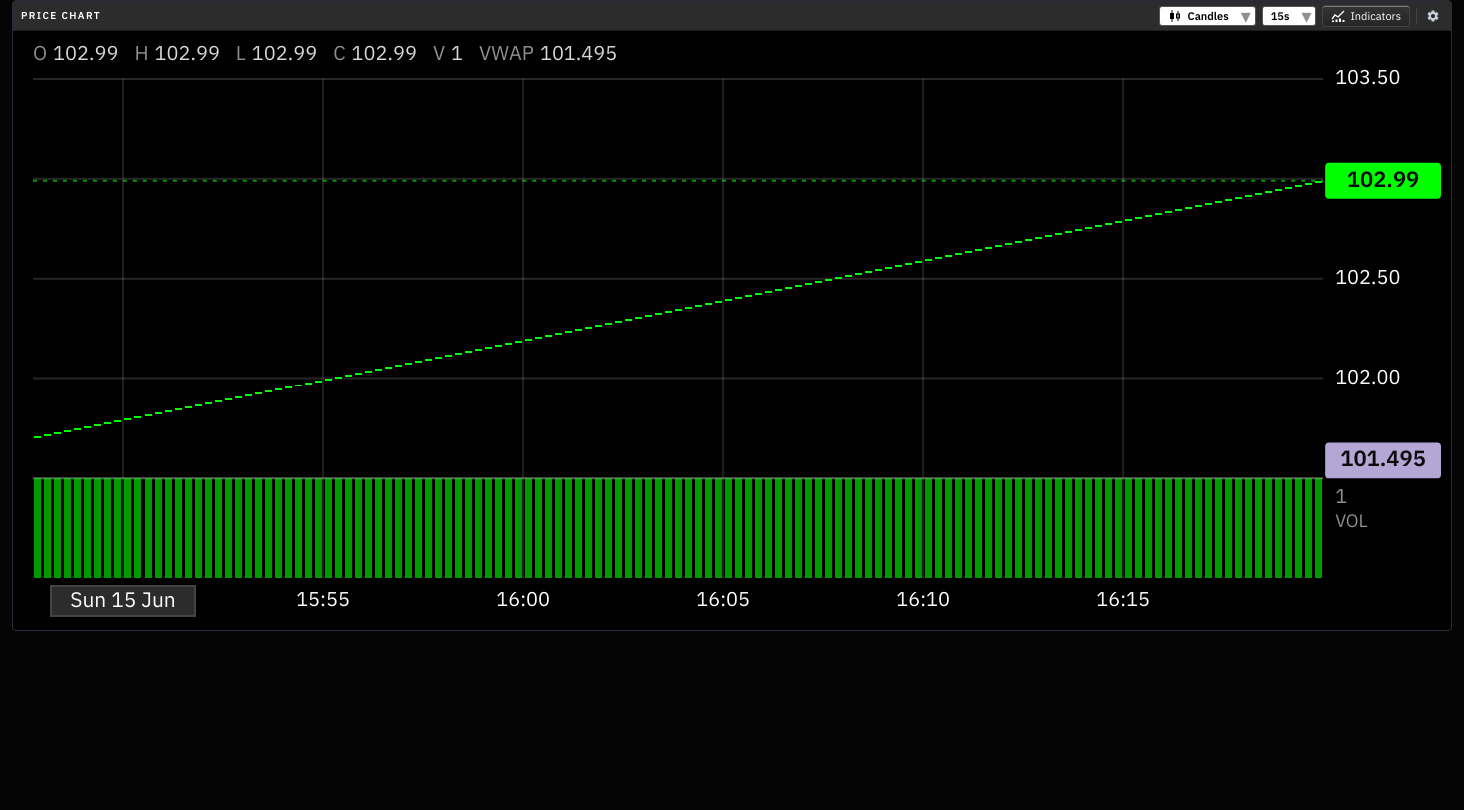
Test case: drag to pan and the Latest button › dragging right moves back in time; Latest appears only when not following
Press the mouse on the picture with test id "price-chart" that starts with "Sun 15 Jun" at [732, 331], box left=13, top=31, right=1451, bottom=630
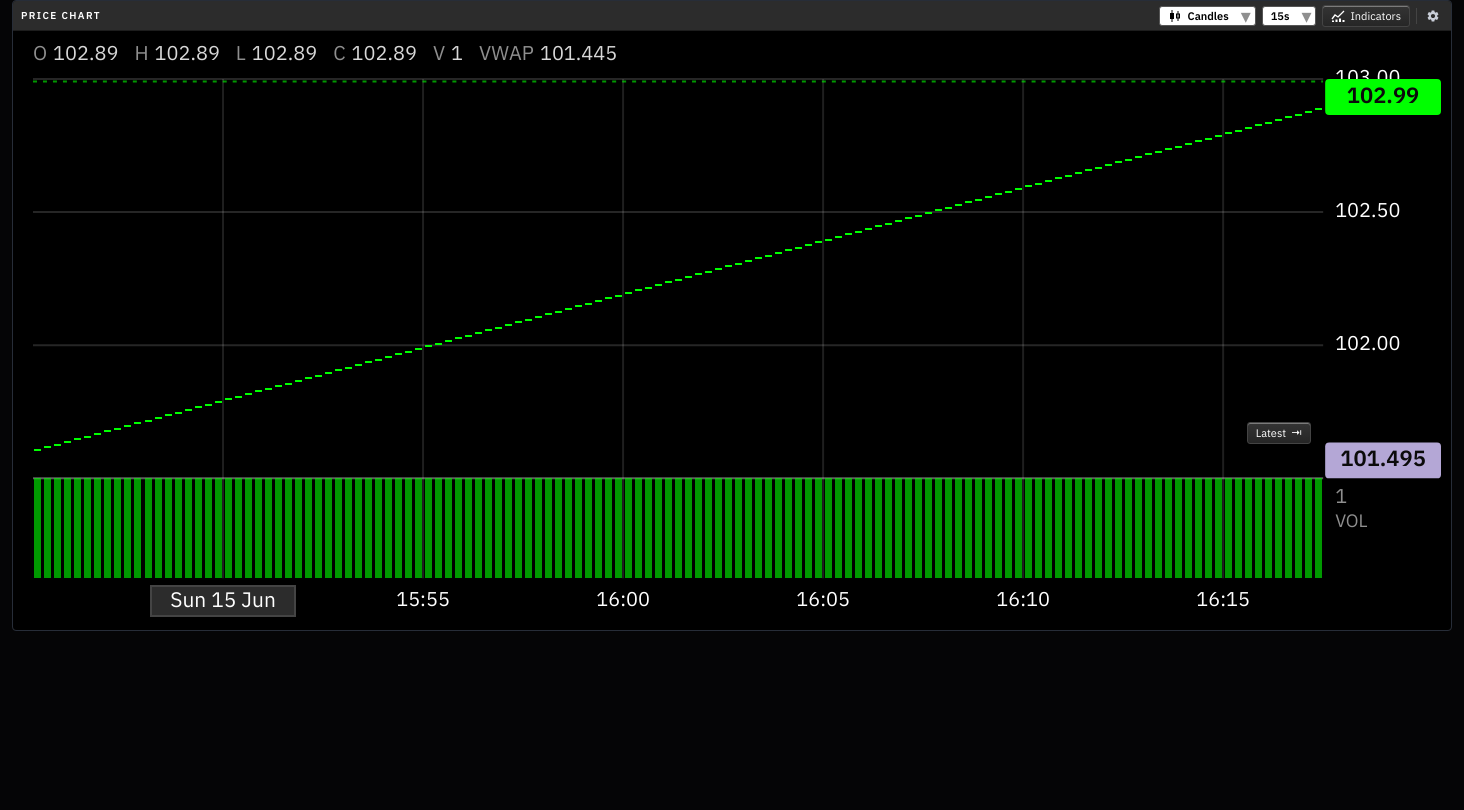
Result: the button with test id "pc-latest" is shown
Click the button with test id "pc-latest" at [1279, 433], box left=1247, top=422, right=1311, bottom=444
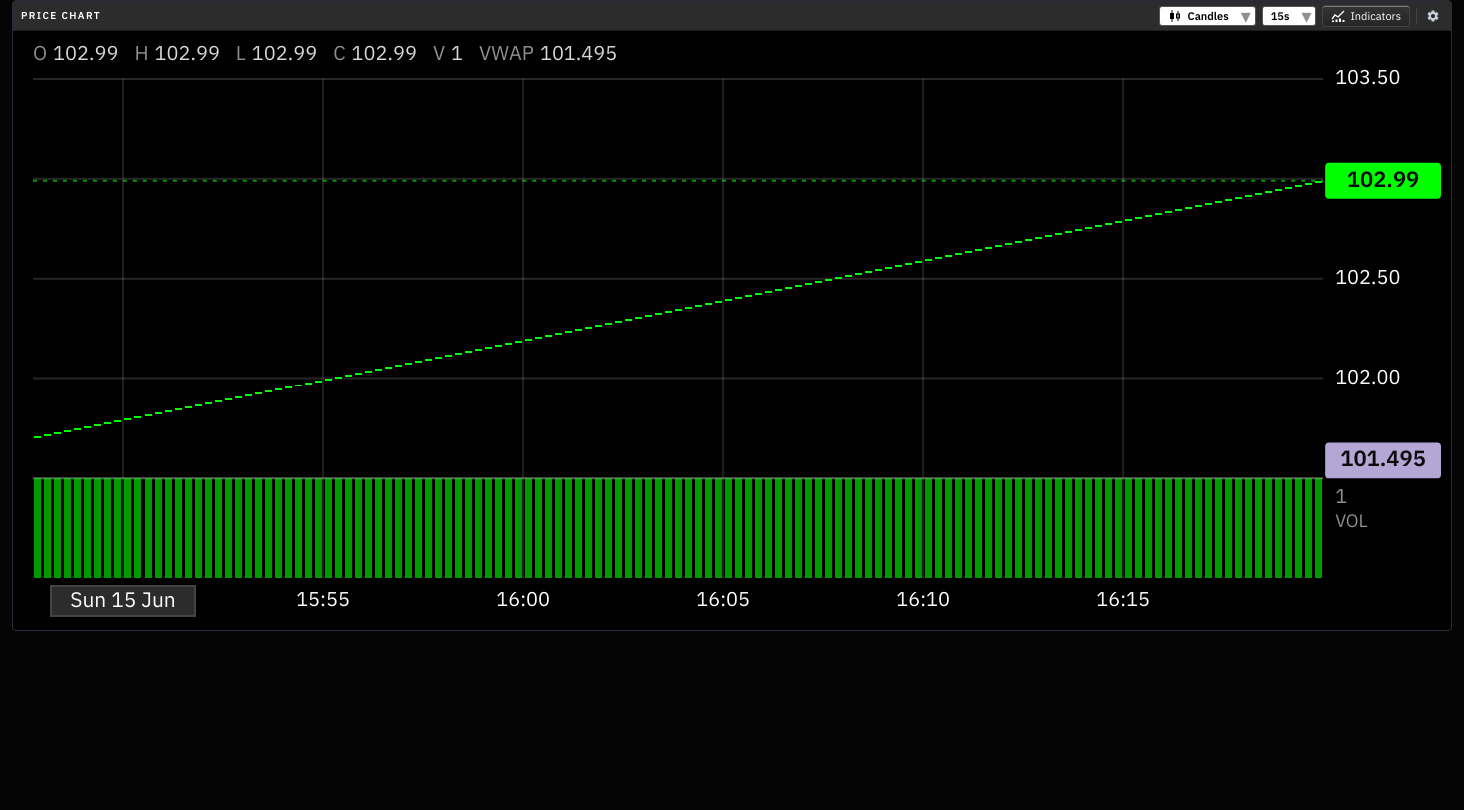
Result: the button with test id "pc-latest" is gone
